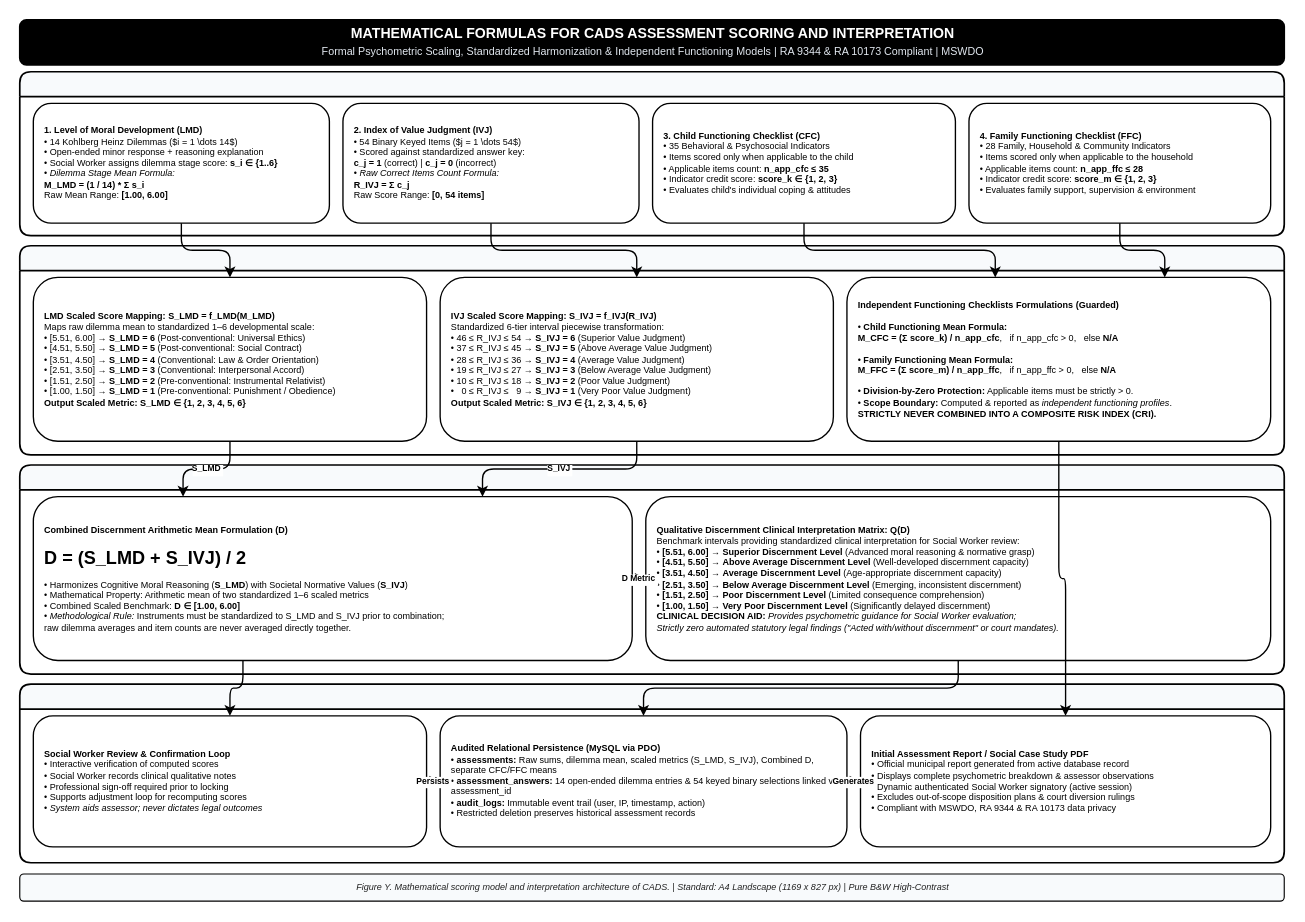
Some shapes in this 1305 by 922 pixel diagram are drawn without their labels. The shapes that lost their labels are listed below. From the top down, each one's box as (x1, y1, x2, y2) in pixels, then its label:
(18, 70, 1285, 236): STAGE 1: RAW PSYCHOMETRIC INSTRUMENTS & DATA ENTRY FORMULATIONS
(18, 244, 1285, 455): STAGE 2: MATHEMATICAL STANDARDIZATION & SCALED SCORE CONVERSION
(18, 464, 1285, 674): STAGE 3: COMBINED DISCERNMENT SYNTHESIS & CLINICAL INTERPRETATION
(18, 683, 1285, 863): STAGE 4: CLINICAL REVIEW, AUDITED STORAGE & REPORT GENERATION
